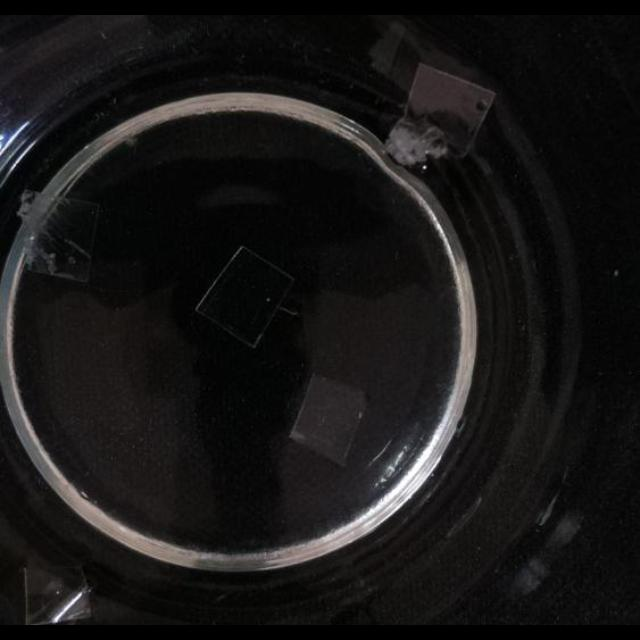Film: (192, 244, 300, 350), (391, 58, 493, 170), (12, 186, 104, 280), (296, 376, 368, 466), (20, 559, 94, 625)
